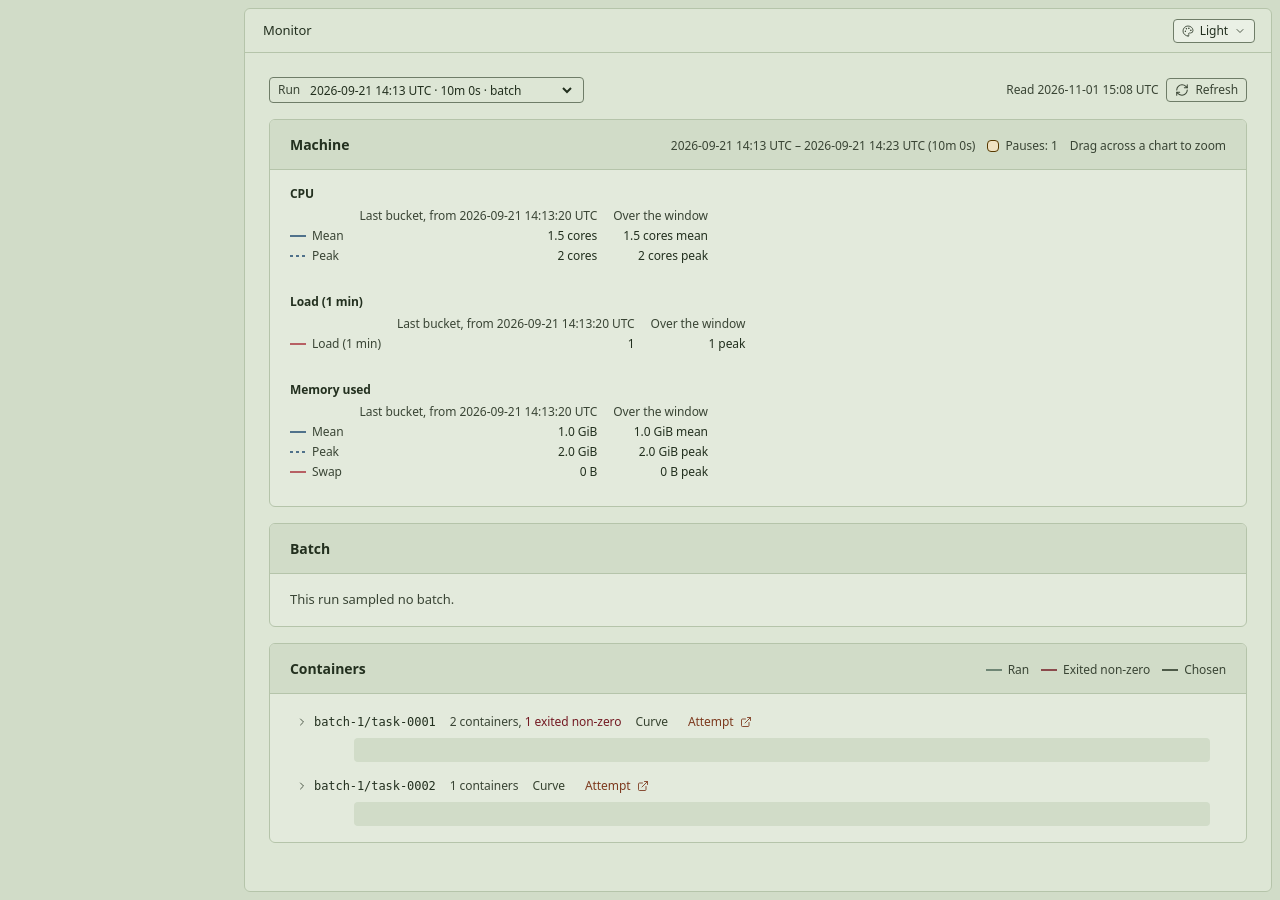
Test case: the Monitor page › draws a container's curve once it is chosen from the list
Click the button "batch-1/task-0001" at (366, 722), box [290,710,442,734]
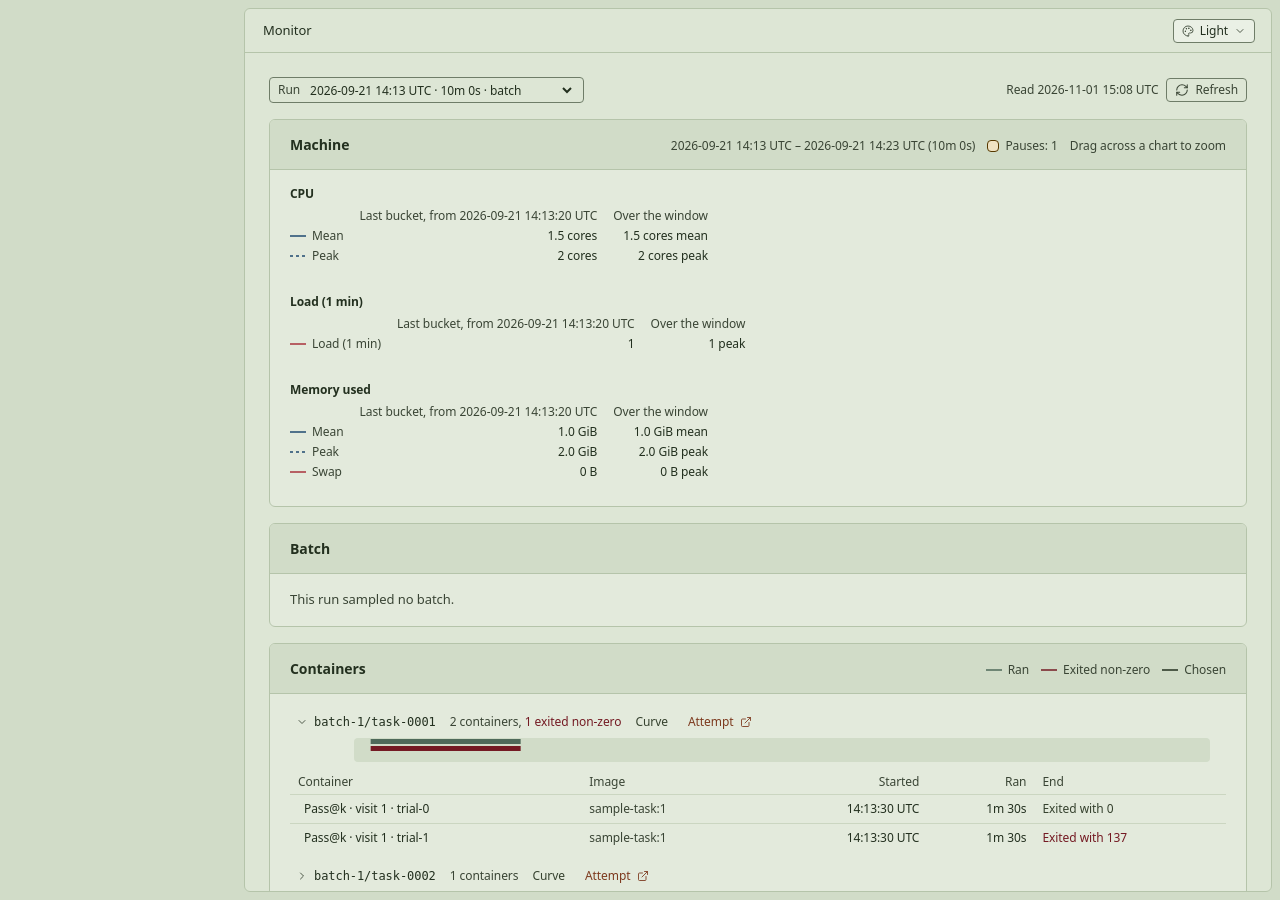
Expected: the button "batch-1/task-0001" is expanded, [290,710,442,734]
Click the button "Pass@k · visit 1 · trial-1" at (367, 838), box [298,826,435,850]
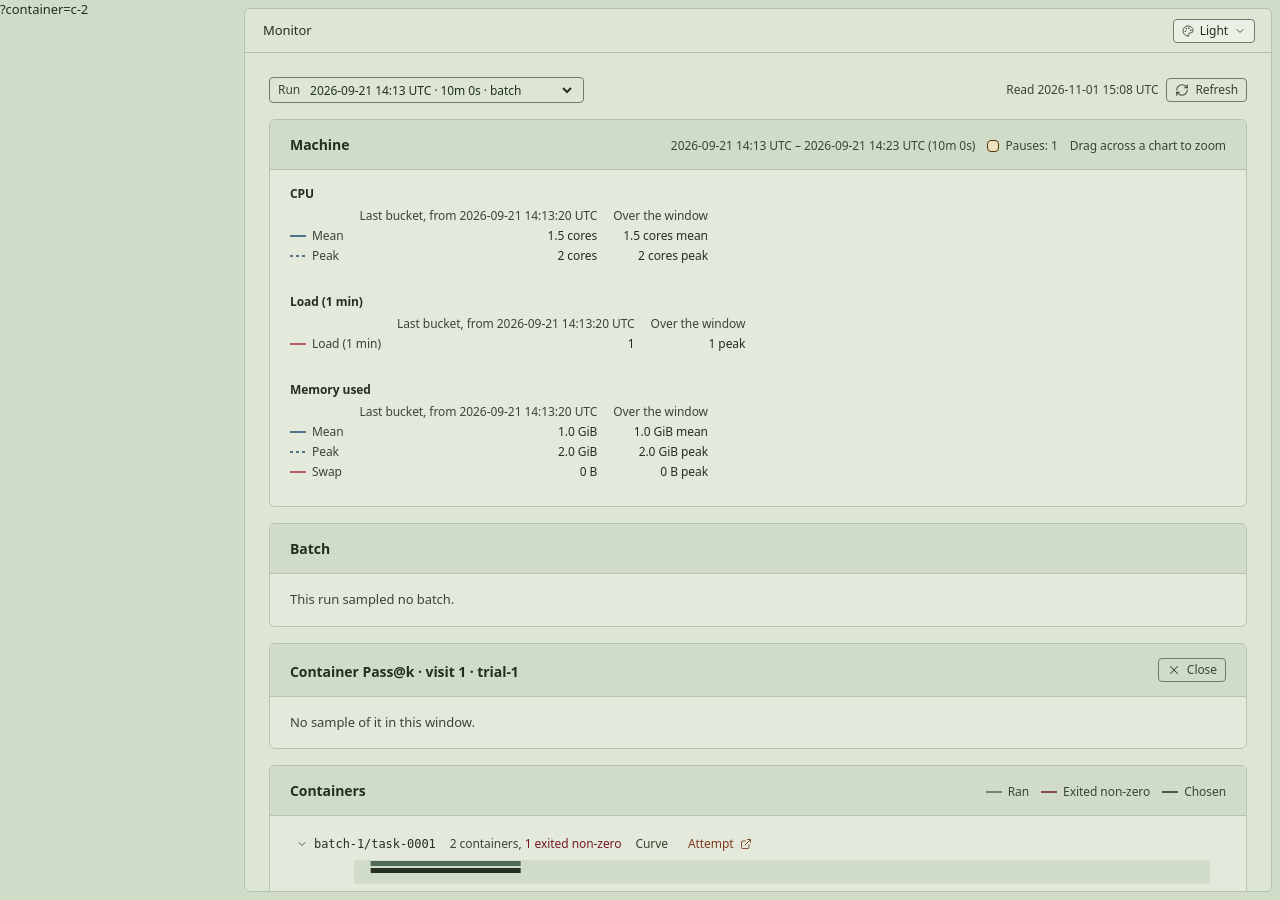
Expected: the text named "where" shows "container=c-2", [0,0,88,18]
Expected: the heading "Container Pass@k · visit 1 · trial-1" is shown, [290,660,519,682]
